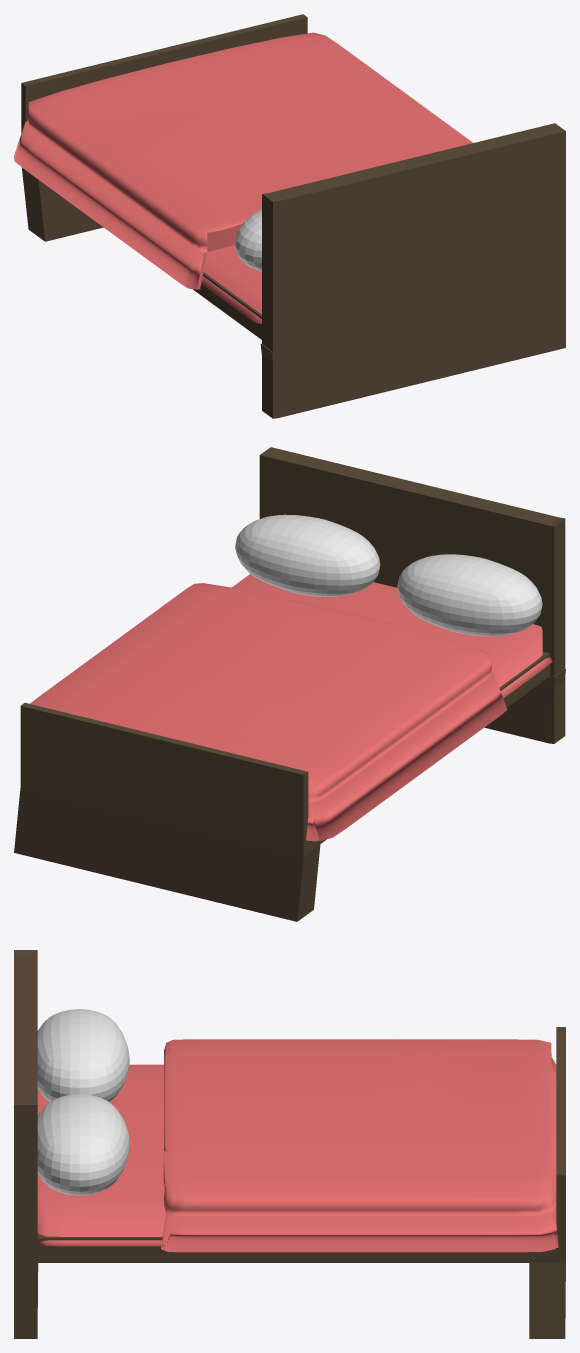
File: bed.fbx
The picture shows the model from 3 angles, top to bottom: view 1: azimuth 30°, elevation 25°; view 2: azimuth 150°, elevation 25°; view 3: azimuth 270°, elevation 25°; orthographic projection. The views are drawn at different scales.
Parts seen in each view (by area): view 1: Cube.003, Cube.001, Cube, Cube.002; view 2: Cube.003, Cube.001, Cube.002, Cube; view 3: Cube.001, Cube.003, Cube.002, Cube.
Part boxes in pixels (x1,y1,x2,y2): Cube.003: (21, 14, 565, 418); Cube.001: (14, 32, 472, 289); Cube: (201, 244, 261, 323); Cube.002: (234, 209, 261, 271); Cube.003: (14, 447, 565, 921); Cube.001: (30, 583, 507, 841); Cube.002: (235, 514, 542, 636); Cube: (232, 574, 552, 698); Cube.001: (161, 1039, 558, 1252); Cube.003: (14, 950, 565, 1338); Cube.002: (37, 1009, 129, 1195); Cube: (37, 1064, 166, 1246).
Size of the model in its own units: 567 by 377 by 805.
